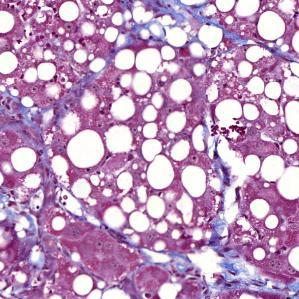fibrosis: (146, 241, 259, 294)
